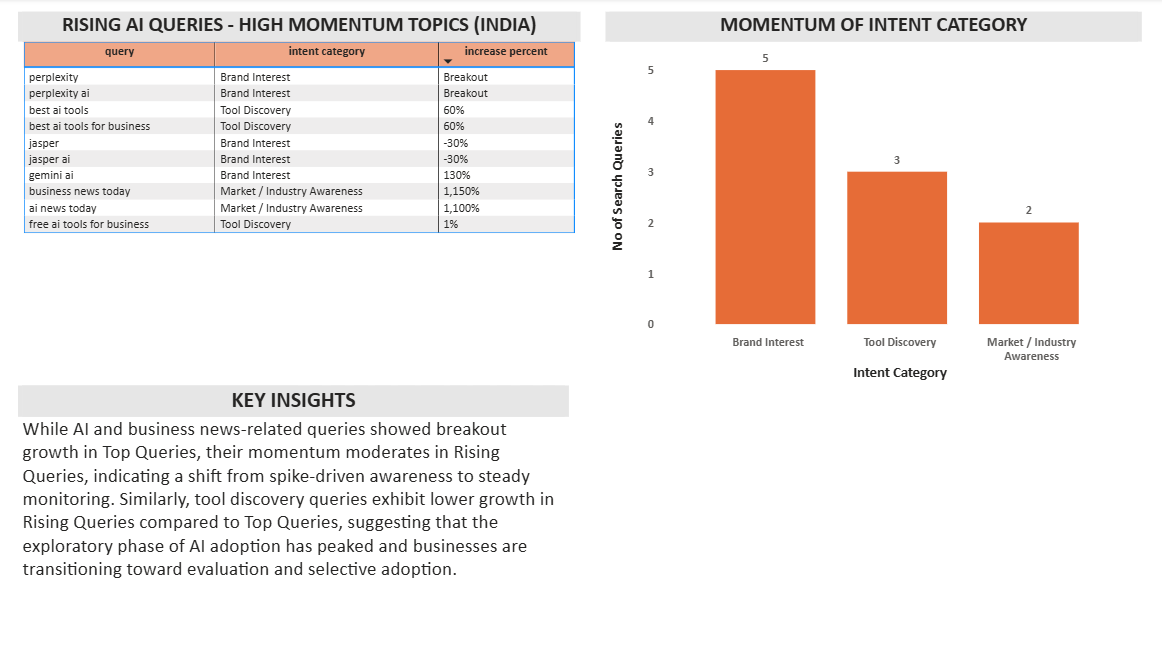

The dashboard page shown, as its layout file describes it:
{"tool":"powerbi","page":{"name":"Emerging AI Trends and Strategic Signals","canvas":[1280,720],"ordinal":1},"visuals":[{"type":"tableEx","title":"RISING AI QUERIES - HIGH MOMENTUM TOPICS (INDIA)","fields":{"Values":["AI_tools_trends_India_2025.query","AI_tools_trends_India_2025.intent category","AI_tools_trends_India_2025.increase percent"]},"box":[23.3,27.4,605.1,249.7],"z":0},{"type":"clusteredColumnChart","title":"MOMENTUM OF INTENT CATEGORY","fields":{"Category":["AI_tools_trends_India_2025.intent category"],"Y":["CountNonNull(AI_tools_trends_India_2025.query)"]},"box":[666.9,15.1,588.7,410.3],"z":1000},{"type":"textbox","title":"KEY INSIGHTS","box":[22,425.4,605.1,231.9],"z":2000}]}

Visuals, with their boxes in screenshot pixels (x1, y1, x2, y2), scaled from the page's 1280x720 canvas onto the 1162x652 screenshot:
"RISING AI QUERIES - HIGH MOMENTUM TOPICS (INDIA)" tableEx: (x1=21, y1=25, x2=570, y2=251)
"MOMENTUM OF INTENT CATEGORY" clusteredColumnChart: (x1=605, y1=14, x2=1140, y2=385)
"KEY INSIGHTS" textbox: (x1=20, y1=385, x2=569, y2=595)
